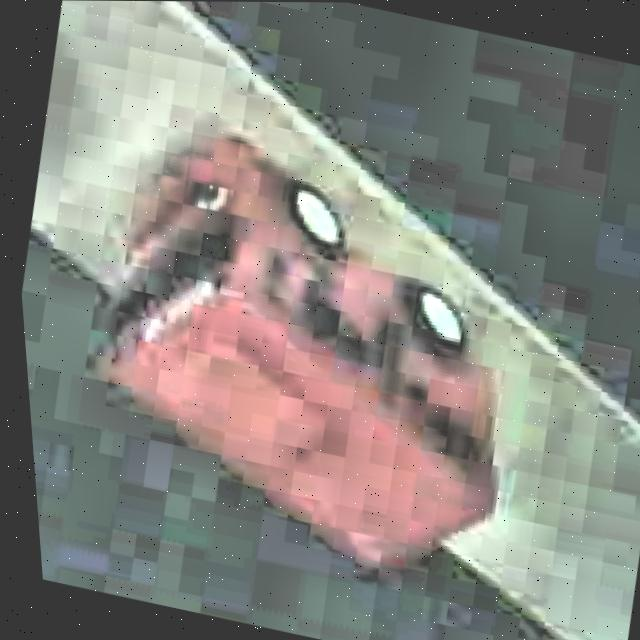bus: (41, 107, 568, 599)
